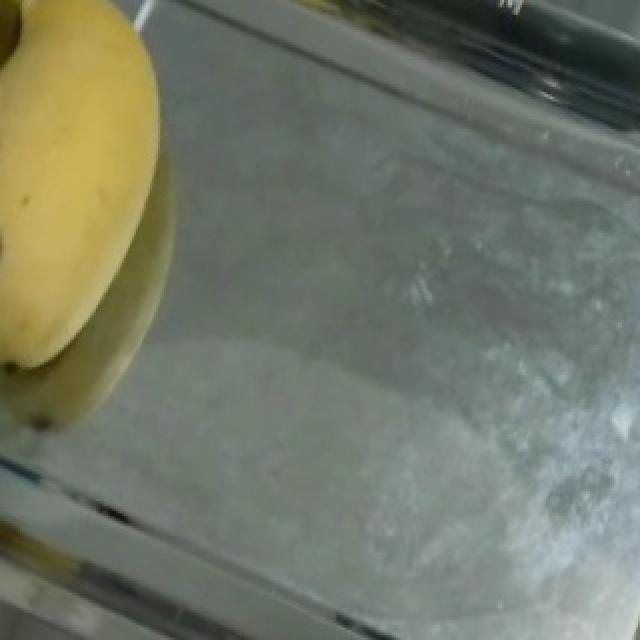fruit: (0, 0, 248, 322)
